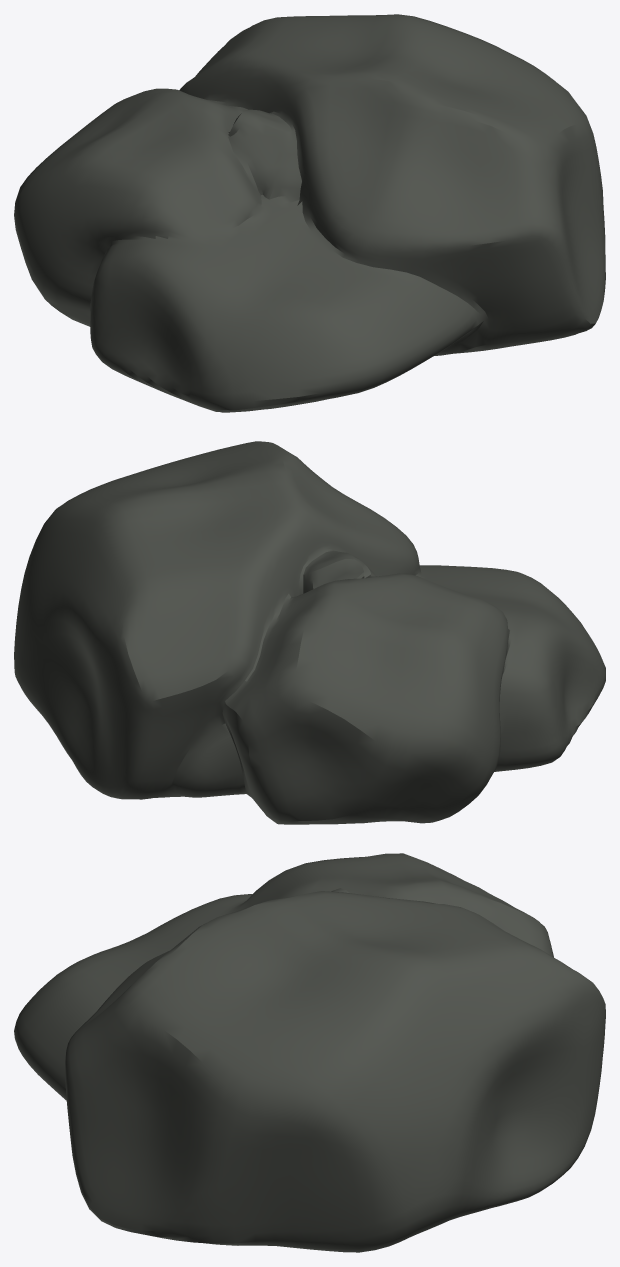
The model's file is Rocks-e1rgb5i2kF.glb.
The picture shows the model from 3 angles, top to bottom: view 1: azimuth 30°, elevation 25°; view 2: azimuth 150°, elevation 25°; view 3: azimuth 270°, elevation 25°; orthographic projection. The views are drawn at different scales.
Parts seen in each view (by area): view 1: Environment_Cliff1; view 2: Environment_Cliff1; view 3: Environment_Cliff1.
Part boxes in pixels (left/top/right/bottom): Environment_Cliff1: left=14, top=14, right=605, bottom=412; Environment_Cliff1: left=14, top=441, right=605, bottom=824; Environment_Cliff1: left=14, top=853, right=605, bottom=1252.
Size of the model in its own units: 5.63 by 2.96 by 5.41.
1 material, 1 textured.
